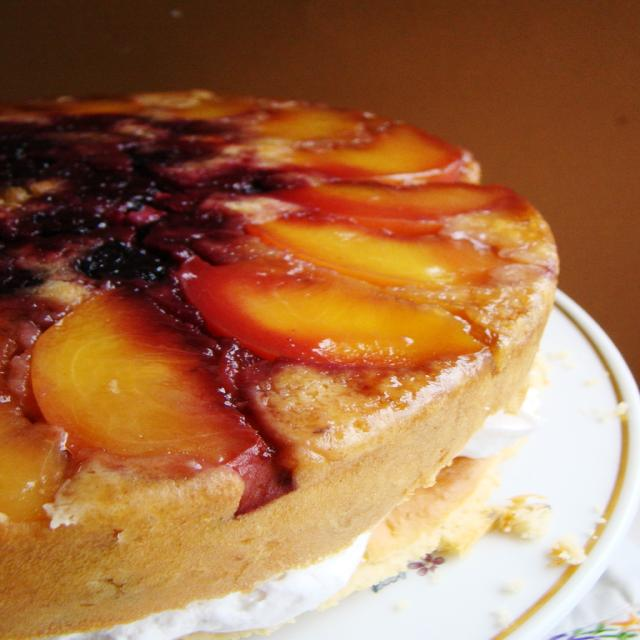Peach: (0, 88, 502, 516)
